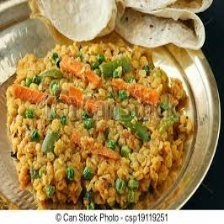roti: (24, 1, 219, 43)
